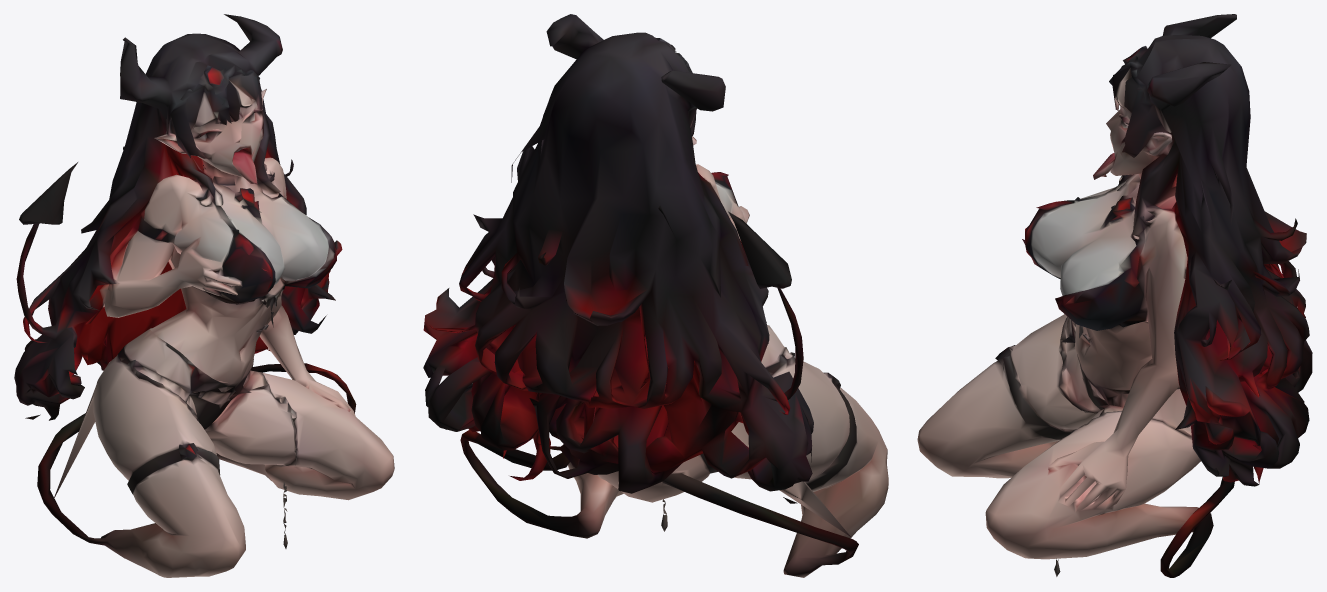
Rendered from 01a1a2e3-2103-7a98-9cec-f58abbffc88a.glb.
3 views of the same model, side by side, from view 1: azimuth 30°, elevation 25°; view 2: azimuth 150°, elevation 25°; view 3: azimuth 270°, elevation 25° (orthographic). The views are drawn at different scales.
Parts seen in each view (by area): view 1: model; view 2: model; view 3: model.
Boxes of the visible parts, x1,y1,x2,y2 form: model: (14,14,394,577); model: (423,14,888,577); model: (917,14,1312,577).
Size of the model in its own units: 1.37 by 1.9 by 1.3.
